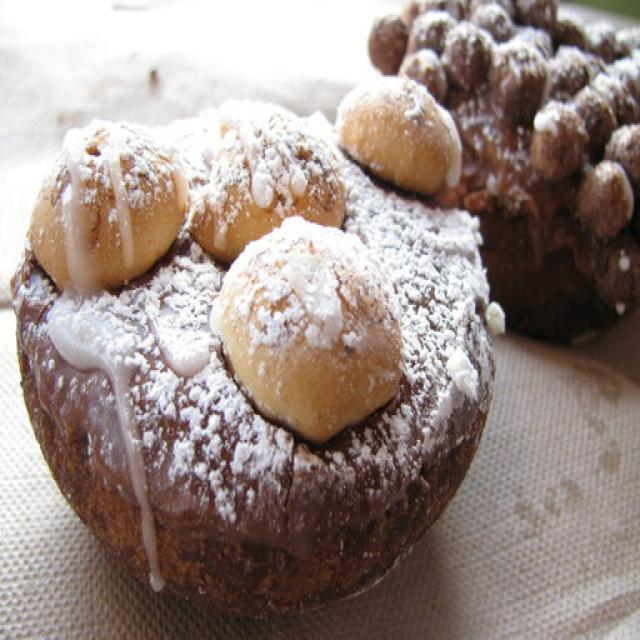Donuts: (35, 6, 640, 640)
